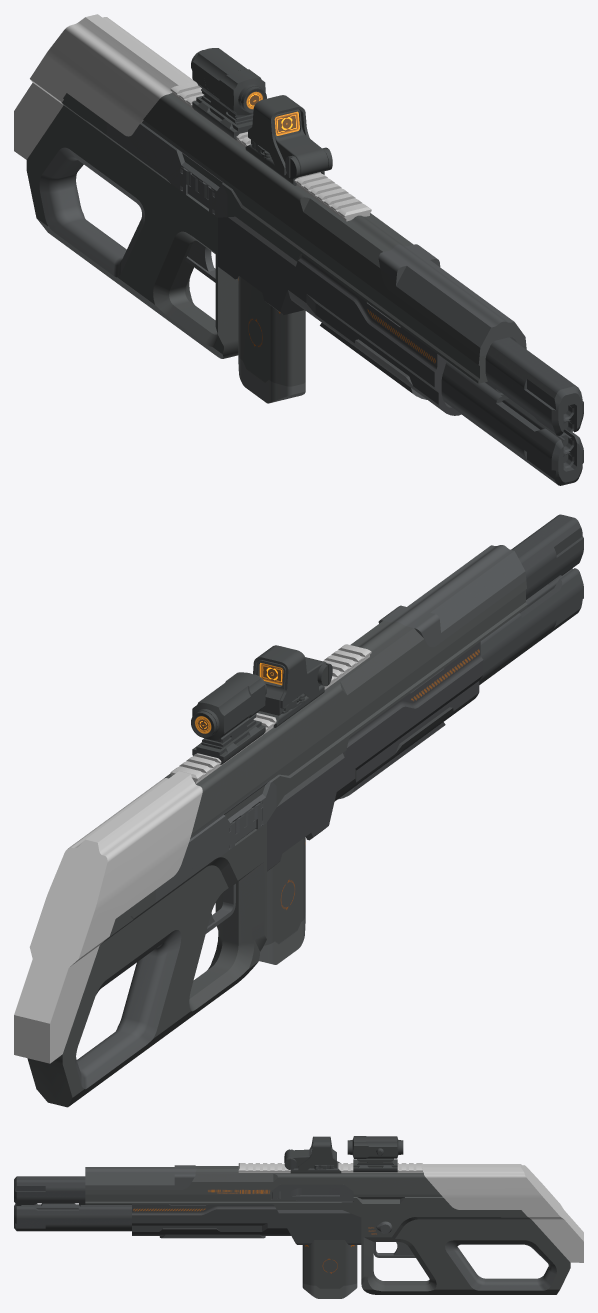
3 renders of one model, top to bottom at view 1: azimuth 30°, elevation 25°; view 2: azimuth 150°, elevation 25°; view 3: azimuth 270°, elevation 25°, orthographic. The views are drawn at different scales.
Parts seen in each view (by area): view 1: Cube.063_low, Slice.039_low, Slice.033_high.001, Slice.042_low, Cube.0702_low, Cube.067_low, Cube.076_low, Cube.070_low, Slice.035_high.001, Cube.081_low, Cube.075_low, Cube.071_low (+5 smaller); view 2: Cube.063_low, Slice.039_low, Slice.033_high.001, Slice.042_low, Cube.076_low, Cube.0702_low, Slice.035_high.001, Cube.081_low, Cube.070_low, Cube.067_low, Cube.075_low, Cube.071_low (+5 smaller); view 3: Cube.063_low, Slice.039_low, Slice.033_high.001, Cube.0702_low, Slice.042_low, Cube.067_low, Slice.035_high.001, Cube.076_low, Cube.070_low, Cube.080_low, Cube.075_low, Cube.071_low (+9 smaller).
Boxes of the visible parts, x1=… form: Cube.063_low: x1=26, y1=93, x2=526, y2=383; Slice.039_low: x1=14, y1=14, x2=194, y2=159; Slice.033_high.001: x1=288, y1=255, x2=461, y2=415; Slice.042_low: x1=378, y1=244, x2=526, y2=356; Cube.0702_low: x1=441, y1=361, x2=583, y2=485; Cube.067_low: x1=238, y1=276, x2=305, y2=386; Cube.076_low: x1=39, y1=147, x2=144, y2=277; Cube.070_low: x1=485, y1=337, x2=583, y2=435; Slice.035_high.001: x1=218, y1=216, x2=303, y2=314; Cube.081_low: x1=106, y1=122, x2=227, y2=217; Cube.075_low: x1=170, y1=81, x2=371, y2=221; Cube.071_low: x1=248, y1=95, x2=309, y2=175; Cube.063_low: x1=27, y1=580, x2=527, y2=1107; Slice.039_low: x1=14, y1=771, x2=202, y2=1063; Slice.033_high.001: x1=334, y1=641, x2=483, y2=801; Slice.042_low: x1=378, y1=545, x2=526, y2=647; Cube.076_low: x1=75, y1=930, x2=181, y2=1089; Cube.0702_low: x1=479, y1=568, x2=583, y2=684; Slice.035_high.001: x1=267, y1=753, x2=344, y2=871; Cube.081_low: x1=155, y1=779, x2=276, y2=902; Cube.070_low: x1=511, y1=514, x2=583, y2=599; Cube.067_low: x1=264, y1=837, x2=305, y2=945; Cube.075_low: x1=170, y1=644, x2=371, y2=783; Cube.071_low: x1=253, y1=645, x2=318, y2=708; Cube.063_low: x1=85, y1=1166, x2=570, y2=1294; Slice.039_low: x1=422, y1=1164, x2=583, y2=1262; Slice.033_high.001: x1=132, y1=1204, x2=290, y2=1235; Cube.0702_low: x1=14, y1=1204, x2=131, y2=1231; Slice.042_low: x1=85, y1=1165, x2=196, y2=1189; Cube.067_low: x1=302, y1=1240, x2=357, y2=1288; Slice.035_high.001: x1=277, y1=1210, x2=361, y2=1244; Cube.076_low: x1=445, y1=1240, x2=556, y2=1290; Cube.070_low: x1=14, y1=1176, x2=131, y2=1204; Cube.080_low: x1=271, y1=1184, x2=353, y2=1201; Cube.075_low: x1=238, y1=1163, x2=422, y2=1172; Cube.071_low: x1=298, y1=1136, x2=336, y2=1170.
Bounding box in the file's own units: 0.9928 × 5.15 × 16.98.
